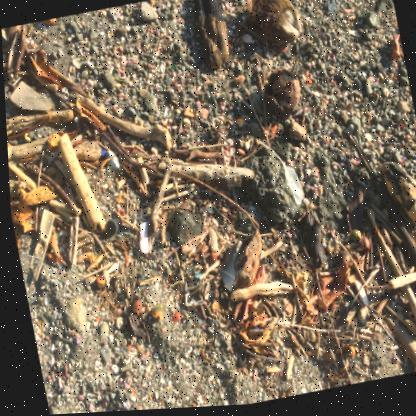Plastic: (255, 143, 300, 207), (213, 246, 235, 293), (180, 281, 201, 307), (135, 222, 149, 254), (103, 263, 114, 274), (191, 274, 197, 280)
Waste: (102, 218, 118, 234)
